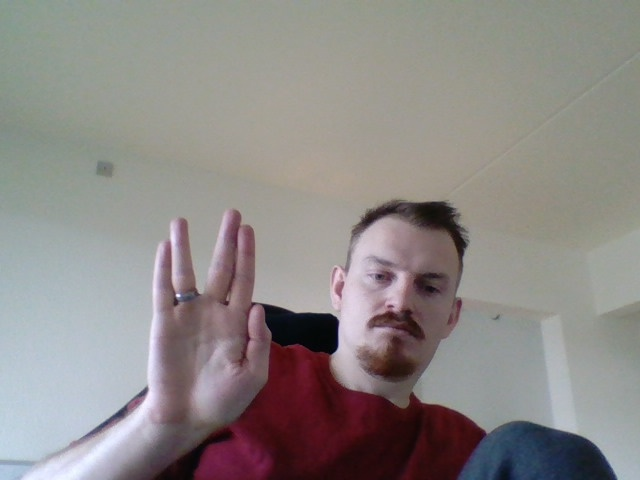LiveLong: (147, 207, 272, 425)
